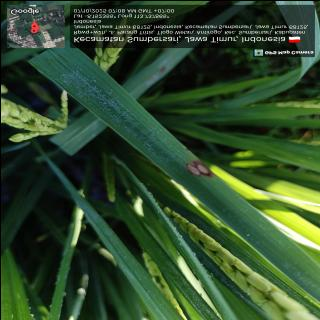Blast: (191, 160, 210, 176), (184, 163, 200, 175)
